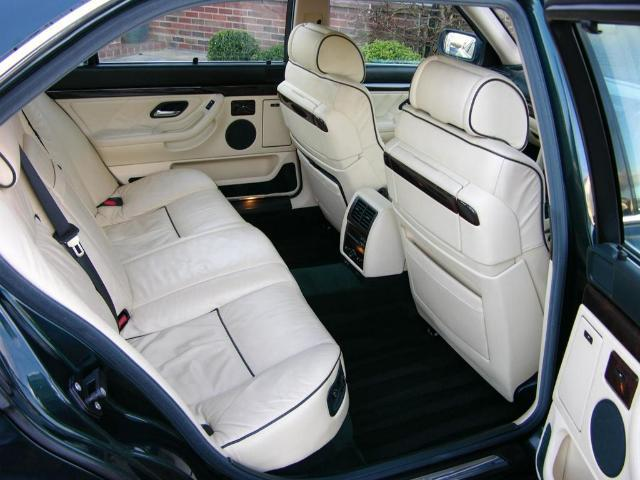Seatbelt: (18, 146, 118, 326)
